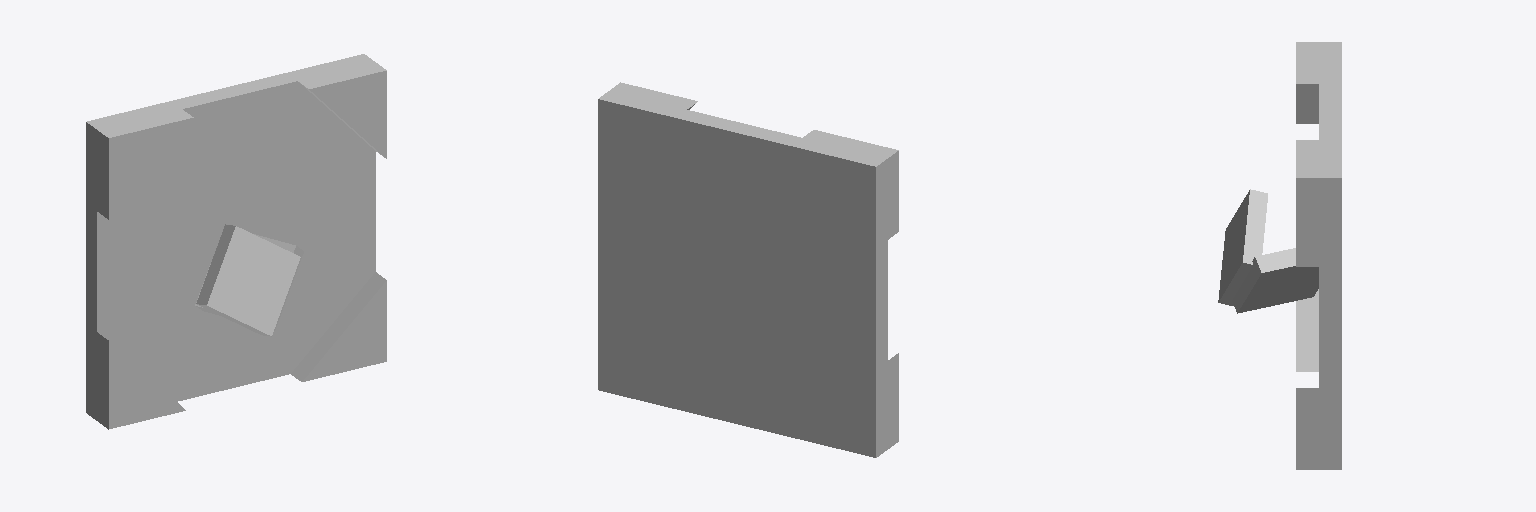
File: enemy.obj
3 views of the same model, side by side, from view 1: azimuth 30°, elevation 25°; view 2: azimuth 150°, elevation 25°; view 3: azimuth 270°, elevation 25° (orthographic).
Parts seen in each view (by area): view 1: Object.1, Object.3; view 2: Object.1; view 3: Object.1, Object.2, Object.3.
Part boxes in pixels (left/top/right/bottom): Object.1: left=86, top=54, right=386, bottom=429; Object.3: left=196, top=224, right=300, bottom=336; Object.1: left=598, top=82, right=898, bottom=457; Object.1: left=1296, top=42, right=1341, bottom=469; Object.2: left=1232, top=248, right=1318, bottom=313; Object.3: left=1218, top=189, right=1267, bottom=305.
Bounding box in the file's own units: 40 × 40 × 15.38.